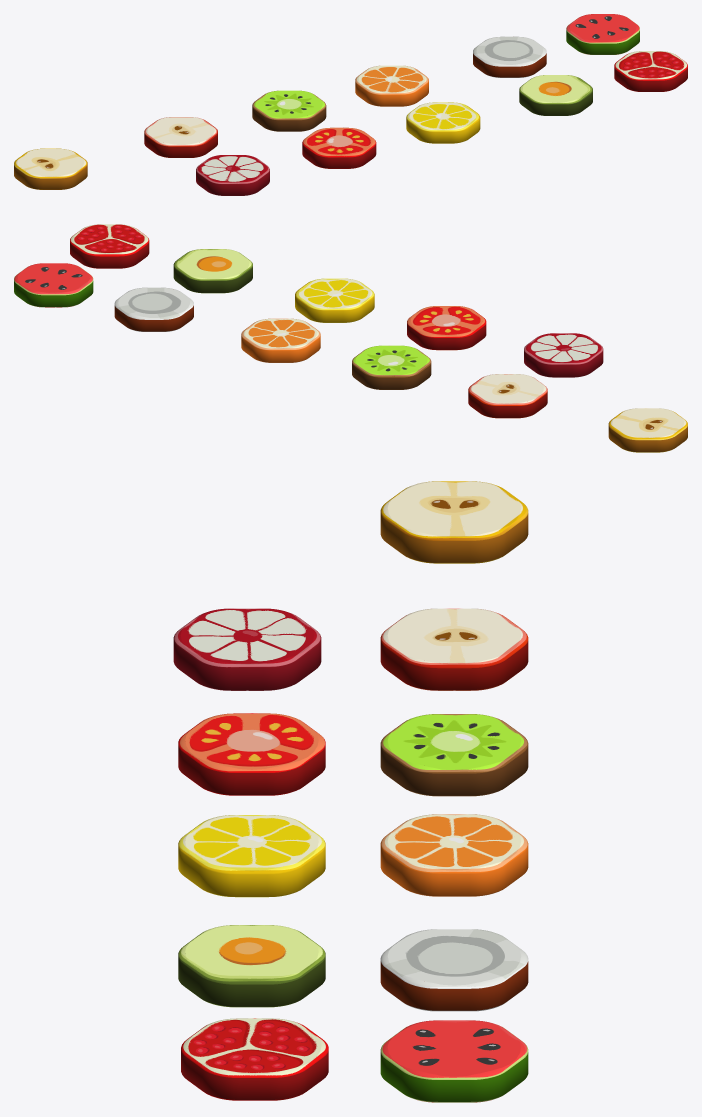
Rendered from fruit_of_the_dance.fbx.
The picture shows the model from 3 angles, top to bottom: view 1: azimuth 30°, elevation 25°; view 2: azimuth 150°, elevation 25°; view 3: azimuth 270°, elevation 25°; orthographic projection. The views are drawn at different scales.
Parts seen in each view (by area): view 1: lemon, kiwi, tomato, orange, pear, coconut, watermelon, pomegrante, avacado, apple, grapefruit; view 2: watermelon, grapefruit, pear, lemon, pomegrante, kiwi, coconut, avacado, orange, apple, tomato; view 3: coconut, apple, grapefruit, kiwi, watermelon, pear, orange, pomegrante, tomato, avacado, lemon.
Boxes of the visible parts, x1=… form: lemon: x1=406, y1=102, x2=480, y2=143; kiwi: x1=252, y1=90, x2=326, y2=131; tomato: x1=302, y1=127, x2=376, y2=168; orange: x1=355, y1=65, x2=428, y2=106; pear: x1=14, y1=148, x2=87, y2=189; coconut: x1=473, y1=36, x2=546, y2=77; watermelon: x1=566, y1=14, x2=639, y2=54; pomegrante: x1=614, y1=51, x2=687, y2=91; avacado: x1=519, y1=75, x2=592, y2=115; apple: x1=144, y1=117, x2=217, y2=157; grapefruit: x1=196, y1=155, x2=269, y2=195; watermelon: x1=14, y1=263, x2=93, y2=307; grapefruit: x1=524, y1=333, x2=603, y2=377; pear: x1=608, y1=408, x2=687, y2=452; lemon: x1=295, y1=278, x2=374, y2=322; pomegrante: x1=70, y1=224, x2=149, y2=268; kiwi: x1=352, y1=345, x2=431, y2=389; coconut: x1=114, y1=287, x2=193, y2=331; avacado: x1=173, y1=249, x2=252, y2=293; orange: x1=241, y1=318, x2=320, y2=362; apple: x1=468, y1=374, x2=547, y2=418; tomato: x1=407, y1=306, x2=486, y2=350; coconut: x1=380, y1=929, x2=528, y2=1011; apple: x1=380, y1=608, x2=528, y2=690; grapefruit: x1=173, y1=608, x2=321, y2=690; kiwi: x1=380, y1=714, x2=528, y2=796; watermelon: x1=380, y1=1020, x2=528, y2=1102; pear: x1=380, y1=481, x2=528, y2=563; orange: x1=380, y1=814, x2=528, y2=896; pomegrante: x1=181, y1=1018, x2=328, y2=1100; tomato: x1=178, y1=713, x2=325, y2=795; avacado: x1=178, y1=925, x2=325, y2=1007; lemon: x1=178, y1=815, x2=325, y2=897.
Bounding box in the file's own units: 3995 × 89.34 × 1001.
11 materials, 11 textured.
